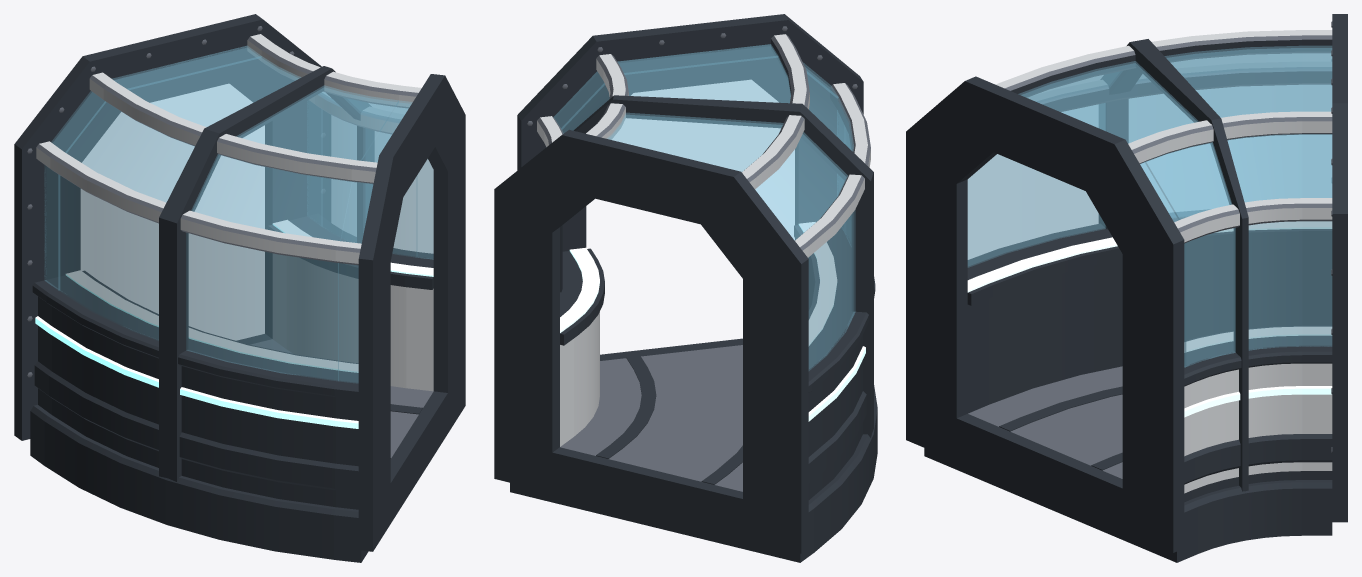
Rendered from Tunnel_Elbow45.fbx.
The picture shows the model from 3 angles, left to right: view 1: azimuth 30°, elevation 25°; view 2: azimuth 150°, elevation 25°; view 3: azimuth 270°, elevation 25°; orthographic projection. The views are drawn at different scales.
Parts seen in each view (by area): view 1: Tunnel_Elbow45_Body; view 2: Tunnel_Elbow45_Body; view 3: Tunnel_Elbow45_Body.
Part boxes in pixels (x1,y1,x2,y2): Tunnel_Elbow45_Body: (14, 14, 465, 562); Tunnel_Elbow45_Body: (494, 14, 877, 562); Tunnel_Elbow45_Body: (906, 14, 1347, 562).
Size of the model in its own units: 3.46 by 3.4 by 3.39.
